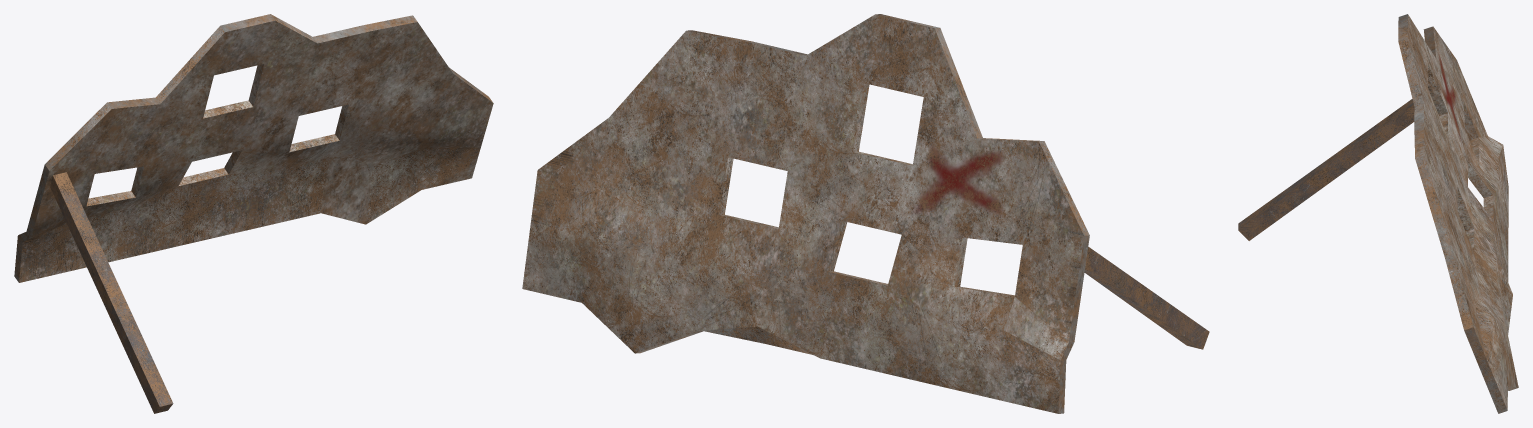
File: ApoyoEdificio5.obj
3 renders of one model, left to right at view 1: azimuth 30°, elevation 25°; view 2: azimuth 150°, elevation 25°; view 3: azimuth 270°, elevation 25°, orthographic. The views are drawn at different scales.
Parts seen in each view (by area): view 1: Ruina_Edificio_1; view 2: Ruina_Edificio_1; view 3: Ruina_Edificio_1.
Boxes of the visible parts, x1,y1,x2,y2 form: Ruina_Edificio_1: (14, 14, 493, 413); Ruina_Edificio_1: (522, 14, 1209, 413); Ruina_Edificio_1: (1238, 14, 1518, 413).
Size of the model in its own units: 146 by 89.97 by 78.55.
Materials: 1 (1 with a texture image).
